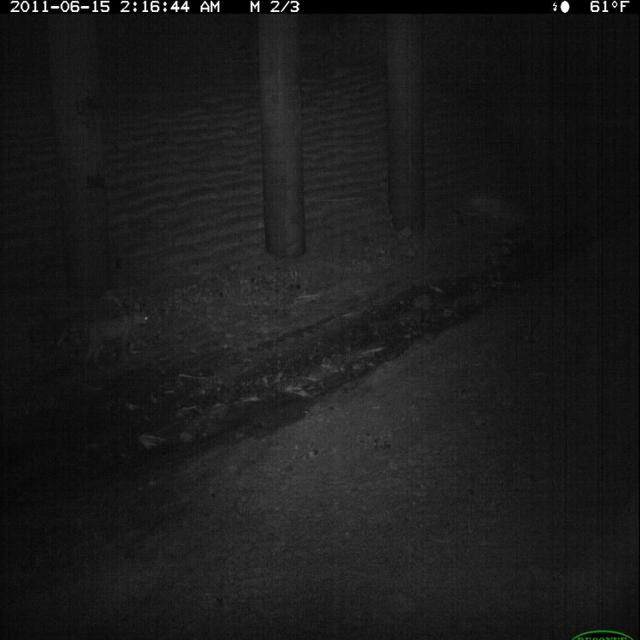bobcat: (79, 303, 154, 383)
